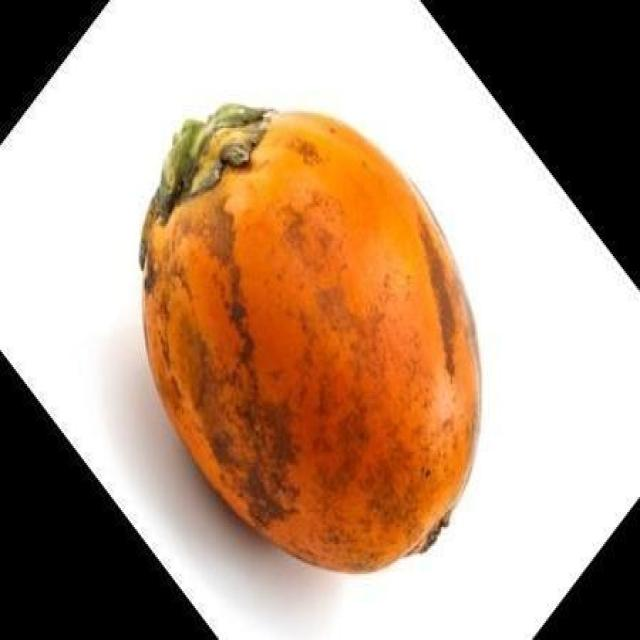good: (139, 104, 484, 576)
